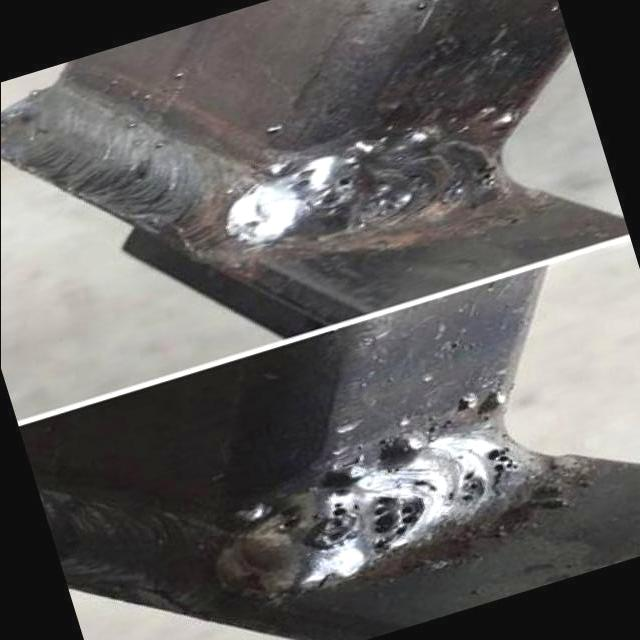defect: (453, 442, 522, 507), (362, 493, 432, 556), (304, 500, 363, 550), (309, 174, 360, 216), (288, 164, 319, 194)
